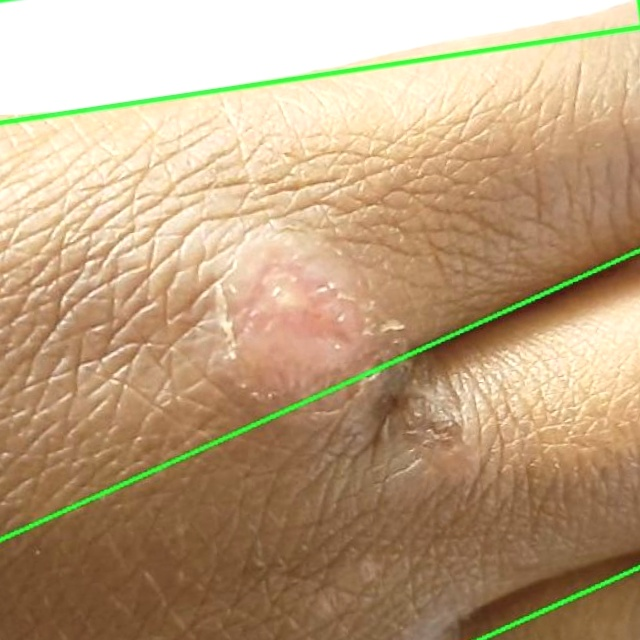Eczema: (0, 247, 639, 639)
